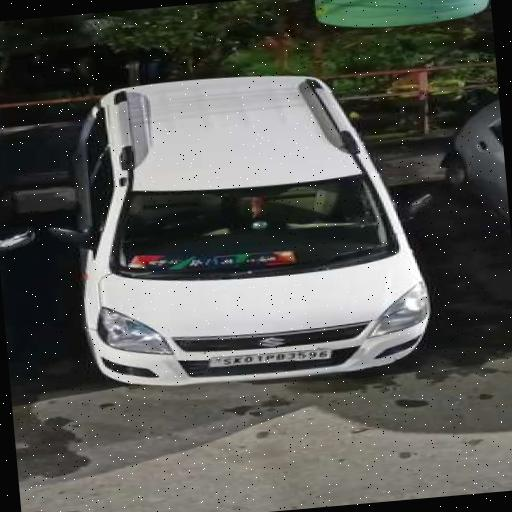license_plate`: (205, 346, 333, 368)
